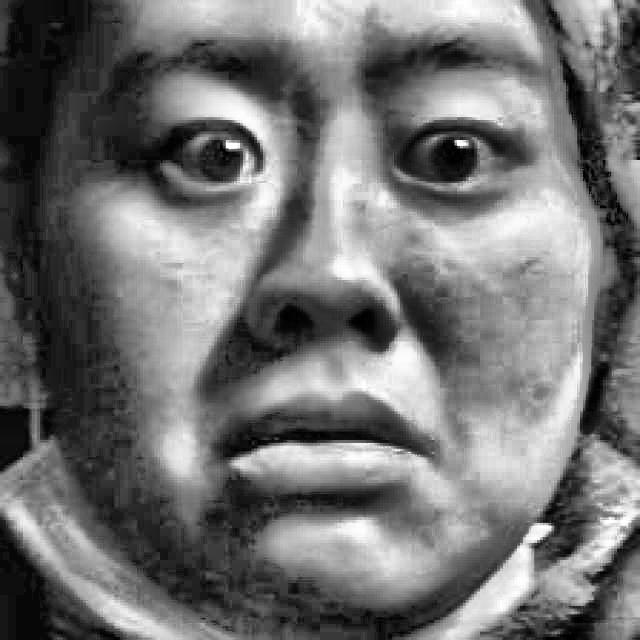fear: (85, 26, 561, 572)
